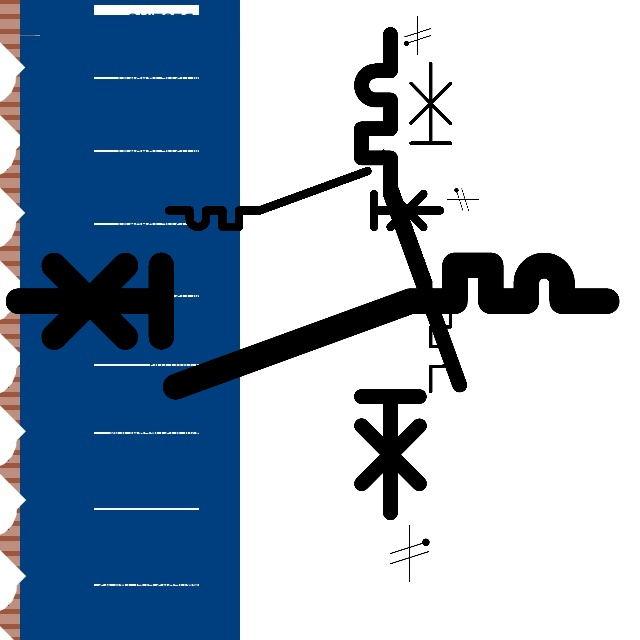interruptor_termomagnetico: (3, 250, 622, 401), (349, 22, 472, 525), (375, 55, 459, 400), (162, 164, 447, 234)
